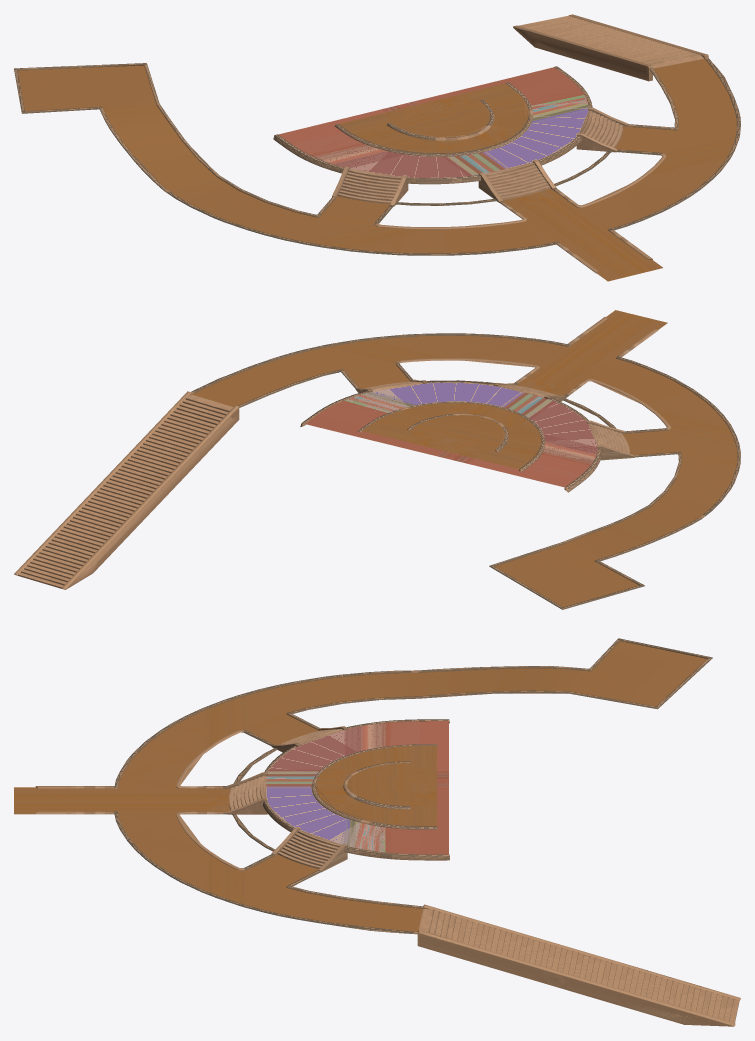
File: objects_un_t01house02_tile01.gltf
3 views of the same model, one above another, from view 1: azimuth 30°, elevation 25°; view 2: azimuth 150°, elevation 25°; view 3: azimuth 270°, elevation 25° (orthographic). The views are drawn at different scales.
Parts seen in each view (by area): view 1: um_objects_un_t01house02_tile01_model_lod0Shape:objects_un_t (×7), um_objects_un_t01house02_tile01_model_lod1Shape:objects_un_t (×5), um_objects_un_t01house02_tile01_model_lod2Shape:objects_un_t (×3), nomerge_objects_un_t01house02_step03_04_mesh_shape:objects_u; view 2: um_objects_un_t01house02_tile01_model_lod0Shape:objects_un_t (×7), um_objects_un_t01house02_tile01_model_lod1Shape:objects_un_t (×5), um_objects_un_t01house02_tile01_model_lod2Shape:objects_un_t (×2), nomerge_objects_un_t01house02_step03_04_mesh_shape:objects_u; view 3: um_objects_un_t01house02_tile01_model_lod0Shape:objects_un_t (×7), um_objects_un_t01house02_tile01_model_lod1Shape:objects_un_t (×4), um_objects_un_t01house02_tile01_model_lod2Shape:objects_un_t (×2), nomerge_objects_un_t01house02_step03_04_mesh_shape:objects_u.
Part boxes in pixels (x1,y1,x2,y2): um_objects_un_t01house02_tile01_model_lod0Shape:objects_un_t (×7): [14, 14, 740, 281]; um_objects_un_t01house02_tile01_model_lod1Shape:objects_un_t (×5): [293, 16, 737, 281]; um_objects_un_t01house02_tile01_model_lod2Shape:objects_un_t (×3): [129, 79, 684, 253]; nomerge_objects_un_t01house02_step03_04_mesh_shape:objects_u: [518, 15, 593, 33]; um_objects_un_t01house02_tile01_model_lod0Shape:objects_un_t (×7): [14, 310, 740, 609]; um_objects_un_t01house02_tile01_model_lod1Shape:objects_un_t (×5): [21, 310, 667, 582]; um_objects_un_t01house02_tile01_model_lod2Shape:objects_un_t (×2): [322, 336, 697, 540]; nomerge_objects_un_t01house02_step03_04_mesh_shape:objects_u: [18, 541, 94, 588]; um_objects_un_t01house02_tile01_model_lod0Shape:objects_un_t (×7): [14, 638, 740, 1026]; um_objects_un_t01house02_tile01_model_lod1Shape:objects_un_t (×4): [14, 721, 735, 1023]; um_objects_un_t01house02_tile01_model_lod2Shape:objects_un_t (×2): [120, 668, 506, 871]; nomerge_objects_un_t01house02_step03_04_mesh_shape:objects_u: [674, 983, 739, 1023].
Bounding box in the file's own units: 48.95 × 7.49 × 51.05.
9 materials, 9 textured.
